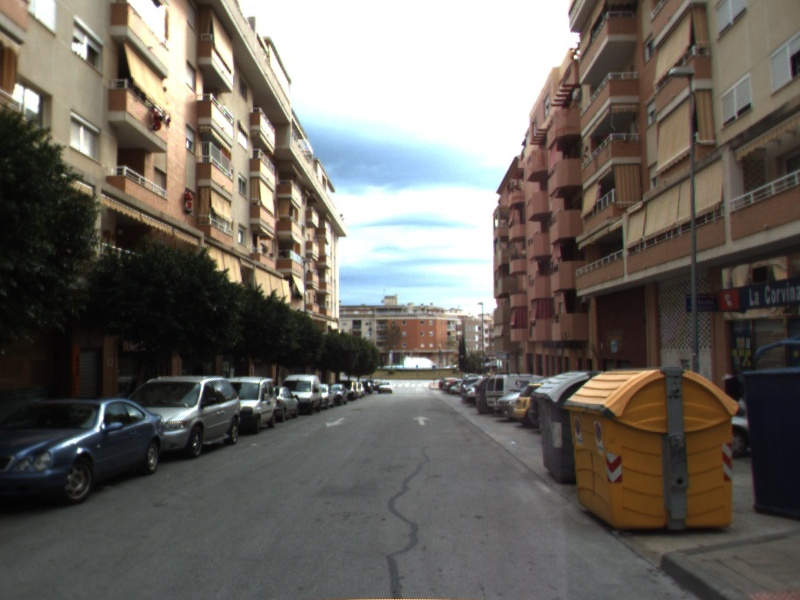STRAIGHT: (411, 414, 431, 427)
